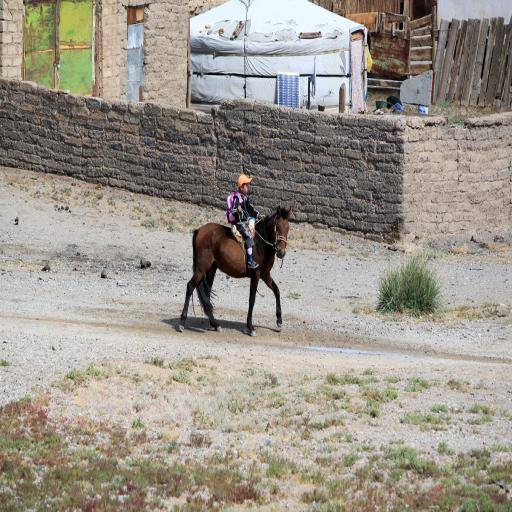horse: (179, 204, 293, 338)
